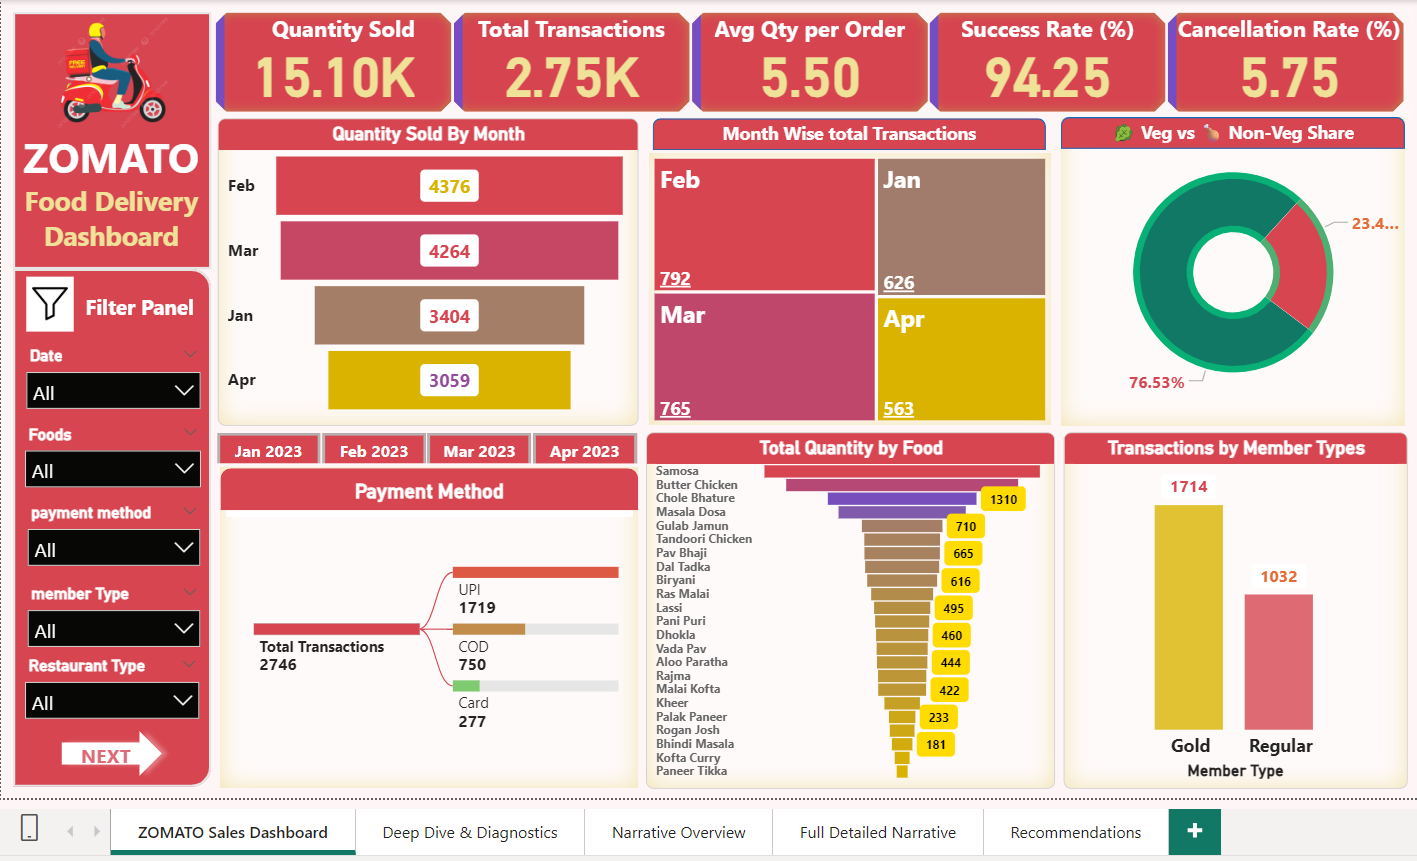

What the dashboard file says about the page in this screenshot:
{"tool":"powerbi","page":{"name":"ZOMATO Sales Dashboard","canvas":[1280,720],"ordinal":0},"visuals":[{"type":"shape","box":[10.6,242.8,179,467.8],"z":0},{"type":"shape","box":[10.6,10.6,179,232.1],"z":1000},{"type":"image","box":[14.2,3.5,173.6,124],"z":2000},{"type":"textbox","box":[5.3,109.9,189.6,132.9],"z":3000},{"type":"funnel","title":" Quantity Sold By Month","fields":{"Category":["Calendar.Month Name"],"Y":["Sales Data.Total_Quantity"]},"box":[195.5,106.4,379.5,277.5],"z":4000},{"type":"funnel","fields":{"Category":["Food_Details (2).Food"],"Y":["Sales Data.Total_Quantity"]},"box":[582.2,389.6,369.5,322],"z":5000},{"type":"decompositionTreeVisual","title":"Payment Method","fields":{"ExplainBy":["Sales Data.payment_method"],"Analyze":["Sales Data.Total_Transactions"]},"box":[198.1,421.4,377,290.5],"z":6000},{"type":"treemap","title":"Month Wise Total Transactions","fields":{"Values":["Sales Data.Total_Transactions"],"Group":["Calendar.Month Name"]},"box":[584.2,137.5,362.8,246.2],"z":7000},{"type":"slicer","fields":{"Values":["Calendar.Date.Variation.Date Hierarchy.Quarter","Calendar.Date.Variation.Date Hierarchy.Month","Calendar.Date.Variation.Date Hierarchy.Day"]},"box":[12.9,307.6,176.8,66.1],"z":8000},{"type":"slicer","fields":{"Values":["Food_Details.Food"]},"box":[11.5,378.1,178.2,66.1],"z":9000},{"type":"slicer","fields":{"Values":["Sales Data.payment_method"]},"box":[14.4,448.5,175.4,66.1],"z":10000},{"type":"textbox","box":[51.4,255.2,147.1,42.5],"z":11000},{"type":"image","box":[23,249.8,42.5,49.6],"z":12000},{"type":"slicer","fields":{"Values":["Resturant_Details.Resturant_Name"]},"box":[11.5,586.5,176.8,66.1],"z":13000},{"type":"slicer","fields":{"Values":["Customer Details.member_Type"]},"box":[14.4,521.8,175.4,67.6],"z":14000},{"type":"shape","box":[45.8,651,108.7,58.9],"z":15000},{"type":"cardVisual","fields":{"Data":["Sales Data.Total_Quantity","Sales Data.Total_Transactions","Sales Data.Average_Quantity","Sales Data.Delivery Success Rate (%)","Sales Data.Cancellation Rate (%)"]},"box":[188.3,5.8,1085.4,100.6],"z":16000},{"type":"donutChart","fields":{"Category":["Food_Details.Veg_NonVeg"],"Y":["Sales Data.Total_Quantity"]},"box":[957.4,106.4,310.5,277.5],"z":17000},{"type":"clusteredColumnChart","title":"Transactions by Member  Types","fields":{"Category":["Customer Details.member_Type"],"Y":["Sales Data.Total_Transactions"]},"box":[958.9,389.6,310.5,322],"z":18000},{"type":"slicer","fields":{"Values":["Calendar.Year-Month Name"]},"box":[169,383.8,428.3,34.1],"z":19000},{"type":"shape","box":[957.4,106.1,310.4,28.8],"z":20000},{"type":"shape","box":[588.1,107.4,354.9,28.8],"z":21000},{"type":"shape","box":[197.8,423.1,377.2,38],"z":22000}]}

Visuals, with their boxes on the page's 1280x720 design canvas (x1, y1, x2, y2). These are canvas units, not pixel positions in the 1417x861 screenshot, which may show the page scaled, cropped or inside an application window:
shape: (11, 243, 190, 711)
shape: (11, 11, 190, 243)
image: (14, 4, 188, 128)
textbox: (5, 110, 195, 243)
" Quantity Sold By Month" funnel: (196, 106, 575, 384)
funnel - Food_Details (2).Food x Sales Data.Total_Quantity: (582, 390, 952, 712)
"Payment Method" decompositionTreeVisual: (198, 421, 575, 712)
"Month Wise Total Transactions" treemap: (584, 138, 947, 384)
slicer - Calendar.Date.Variation.Date Hierarchy.Quarter x Calendar.Date.Variation.Date Hierarchy.Month: (13, 308, 190, 374)
slicer - Food_Details.Food: (12, 378, 190, 444)
slicer - Sales Data.payment_method: (14, 448, 190, 515)
textbox: (51, 255, 198, 298)
image: (23, 250, 66, 299)
slicer - Resturant_Details.Resturant_Name: (12, 586, 188, 653)
slicer - Customer Details.member_Type: (14, 522, 190, 589)
shape: (46, 651, 154, 710)
cardVisual - Sales Data.Total_Quantity x Sales Data.Total_Transactions: (188, 6, 1274, 106)
donutChart - Food_Details.Veg_NonVeg x Sales Data.Total_Quantity: (957, 106, 1268, 384)
"Transactions by Member  Types" clusteredColumnChart: (959, 390, 1269, 712)
slicer - Calendar.Year-Month Name: (169, 384, 597, 418)
shape: (957, 106, 1268, 135)
shape: (588, 107, 943, 136)
shape: (198, 423, 575, 461)
